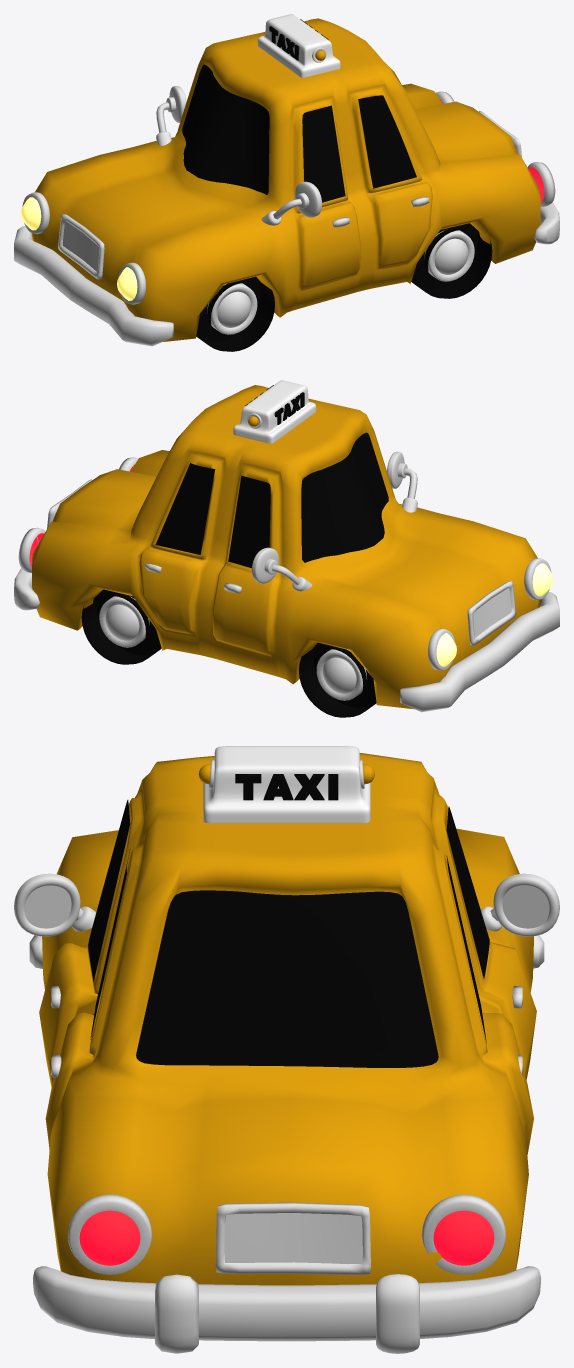
Rendered from taxibien.fbx.
3 views of the same model, one above another, from view 1: azimuth 30°, elevation 25°; view 2: azimuth 150°, elevation 25°; view 3: azimuth 270°, elevation 25° (orthographic). The views are drawn at different scales.
Parts seen in each view (by area): view 1: Cube, Cube.005, Cube.004, Cube.010, RuedaDelIzq, RuedaTrasIzq, Cube.009, Cube.016, LucesDel, Circle.005, Cube.014, Cube.013 (+3 smaller); view 2: Cube, Cube.005, Cube.003, Cube.010, RuedaDelDer, RuedaTrasDer, Cube.009, Cube.016, LucesDel, Cube.014, Cube.013, Circle.005 (+3 smaller); view 3: Cube, Cube.006, Cube.001, Cube.009, Cube.008, Cube.011, Circle.002, LucesTras, Cube.016, Cube.007, Cube.003, Cube.004 (+5 smaller).
Part boxes in pixels (left/top/right/bottom): Cube: left=31, top=18, right=540, bottom=341; Cube.005: left=182, top=64, right=269, bottom=194; Cube.004: left=302, top=95, right=416, bottom=202; Cube.010: left=14, top=226, right=173, bottom=346; RuedaDelIzq: left=196, top=276, right=274, bottom=351; RuedaTrasIzq: left=411, top=223, right=492, bottom=298; Cube.009: left=257, top=14, right=340, bottom=77; Cube.016: left=156, top=86, right=321, bottom=225; LucesDel: left=20, top=197, right=137, bottom=300; Circle.005: left=22, top=192, right=145, bottom=304; Cube.014: left=62, top=221, right=98, bottom=271; Cube.013: left=58, top=214, right=104, bottom=279; Cube: left=32, top=385, right=541, bottom=709; Cube.005: left=301, top=432, right=388, bottom=562; Cube.003: left=155, top=463, right=270, bottom=568; Cube.010: left=400, top=592, right=559, bottom=712; RuedaDelDer: left=299, top=642, right=376, bottom=717; RuedaTrasDer: left=81, top=589, right=161, bottom=664; Cube.009: left=233, top=380, right=316, bottom=443; Cube.016: left=252, top=451, right=417, bottom=591; LucesDel: left=436, top=563, right=553, bottom=666; Cube.014: left=473, top=588, right=511, bottom=637; Cube.013: left=467, top=581, right=515, bottom=645; Circle.005: left=428, top=558, right=551, bottom=670; Cube: left=39, top=753, right=536, bottom=1285; Cube.006: left=136, top=890, right=438, bottom=1067; Cube.001: left=33, top=1266, right=540, bottom=1341; Cube.009: left=203, top=746, right=370, bottom=823; Cube.008: left=224, top=1213, right=362, bottom=1264; Cube.011: left=155, top=1274, right=419, bottom=1353; Circle.002: left=68, top=1194, right=505, bottom=1274; LucesTras: left=79, top=1210, right=494, bottom=1265; Cube.016: left=14, top=873, right=559, bottom=936; Cube.007: left=215, top=1202, right=370, bottom=1274; Cube.003: left=446, top=806, right=489, bottom=1042; Cube.004: left=88, top=800, right=130, bottom=1039.
Size of the model in its own units: 493 by 262 by 282.
